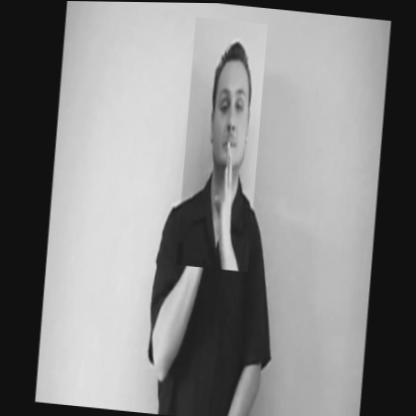Talk: (175, 17, 270, 272)
